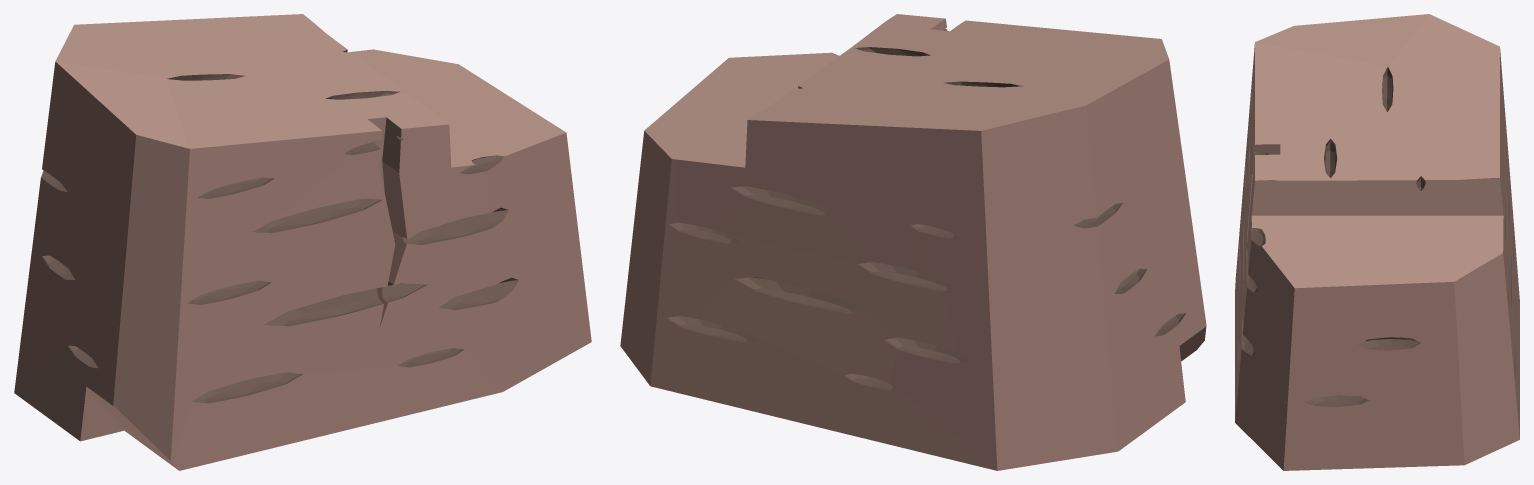
3 renders of one model, left to right at view 1: azimuth 30°, elevation 25°; view 2: azimuth 150°, elevation 25°; view 3: azimuth 270°, elevation 25°, orthographic. The views are drawn at different scales.
Visible parts, largest first — view 1: coherent-consolidated-ash-flow-outcrop; view 2: coherent-consolidated-ash-flow-outcrop; view 3: coherent-consolidated-ash-flow-outcrop.
Part boxes in pixels (box(x1,y1,x2,y2)): coherent-consolidated-ash-flow-outcrop: box(14, 14, 591, 470); coherent-consolidated-ash-flow-outcrop: box(620, 14, 1206, 470); coherent-consolidated-ash-flow-outcrop: box(1235, 14, 1519, 470).
Bounding box in the file's own units: 1.4 × 0.9 × 0.85.
